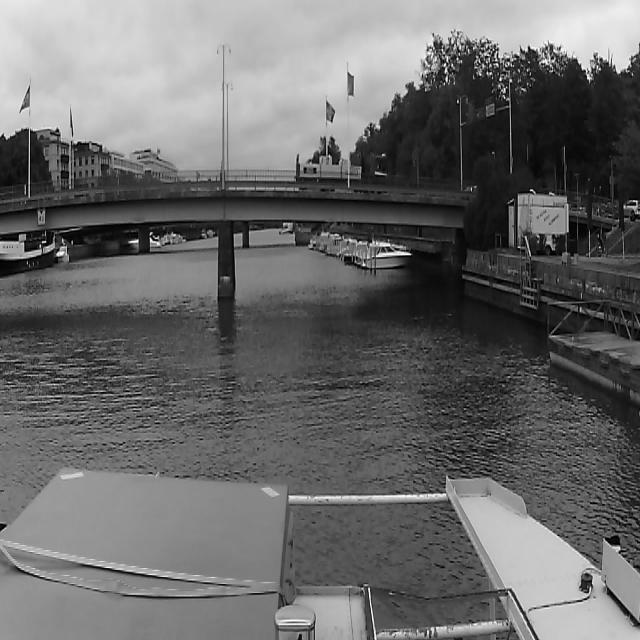ship: (0, 225, 64, 272), (366, 245, 412, 268)
